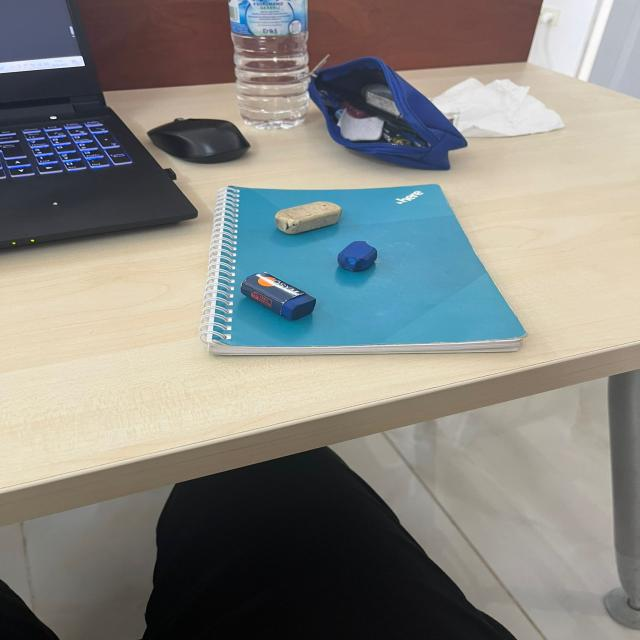eraser: (229, 267, 323, 325), (268, 196, 349, 237), (334, 236, 384, 278)
